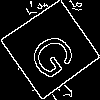G: (26, 24, 86, 84)
